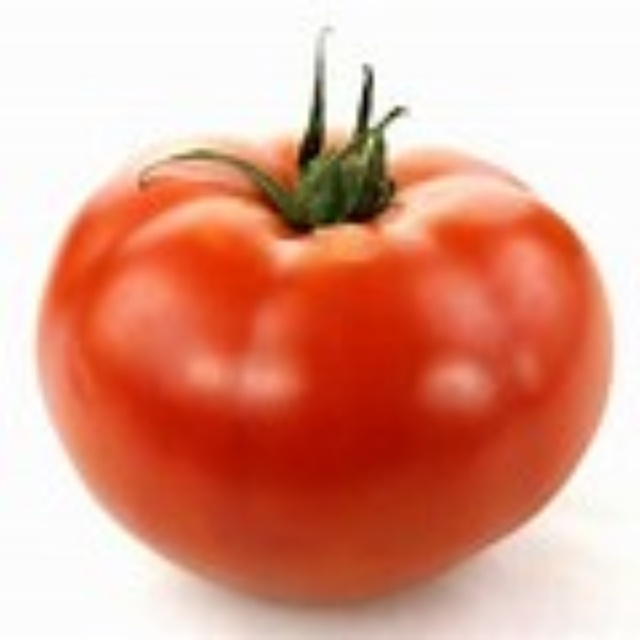tomato: (44, 125, 615, 602)
